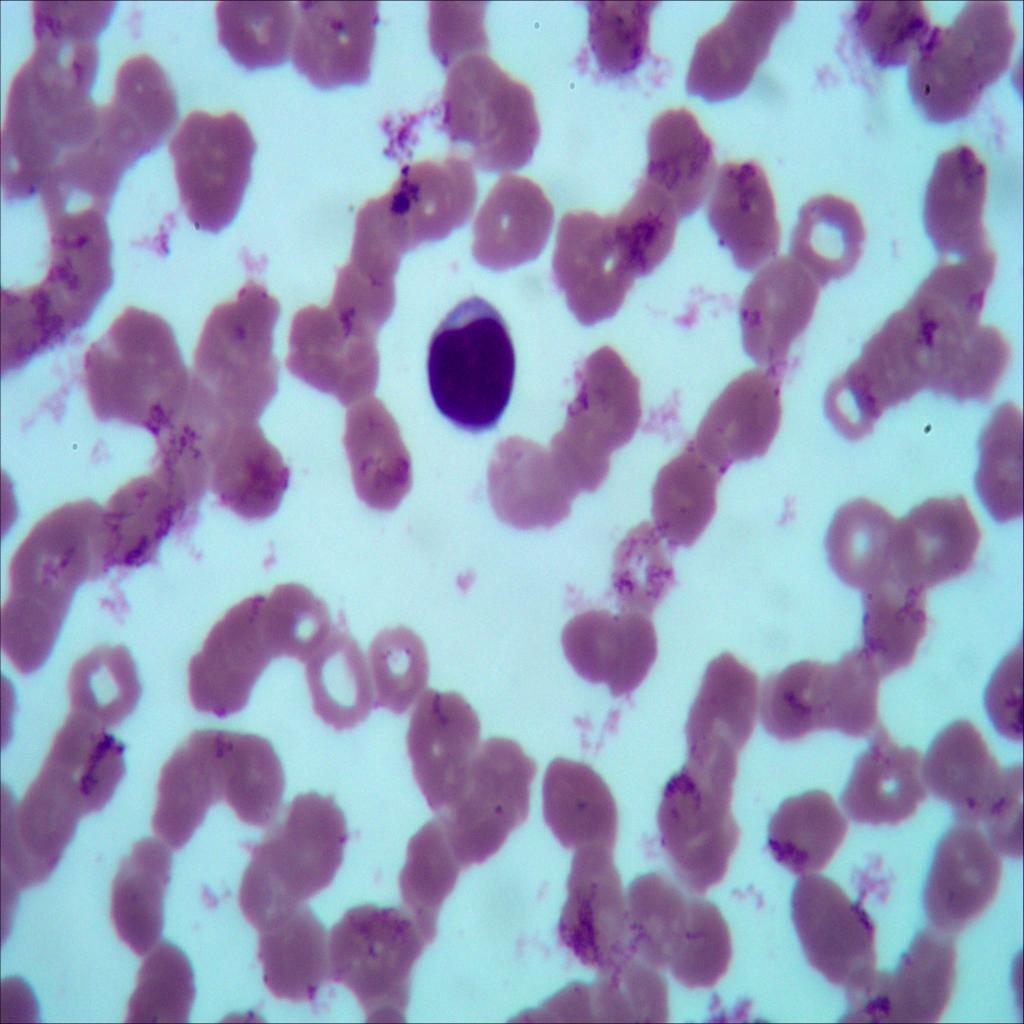Limfoblast: (411, 280, 527, 439)
